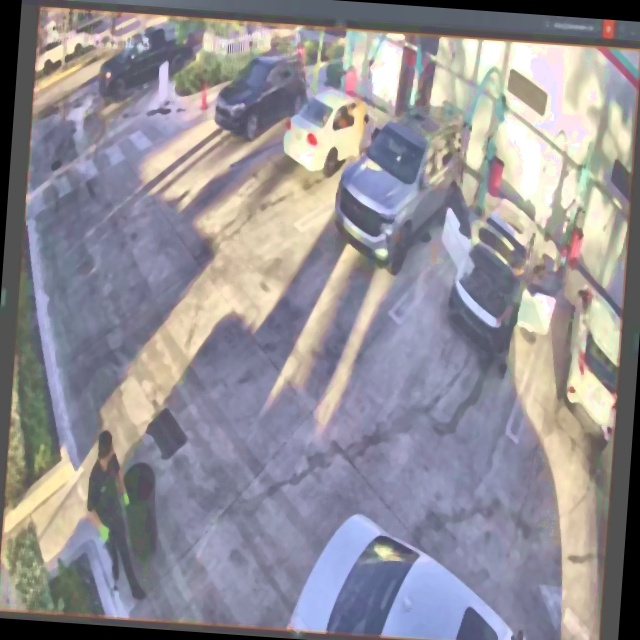Car: (333, 99, 466, 278), (436, 179, 565, 359), (281, 88, 384, 176)
